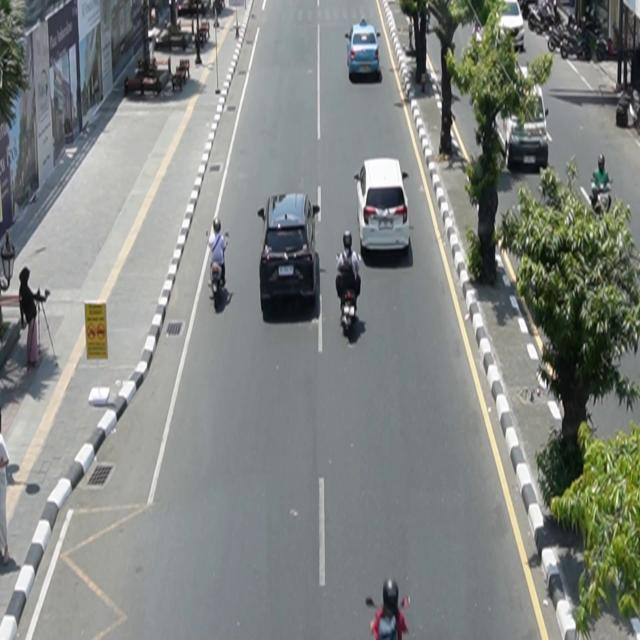car: (258, 193, 321, 312), (493, 66, 553, 174), (354, 158, 411, 255), (345, 20, 382, 79)
